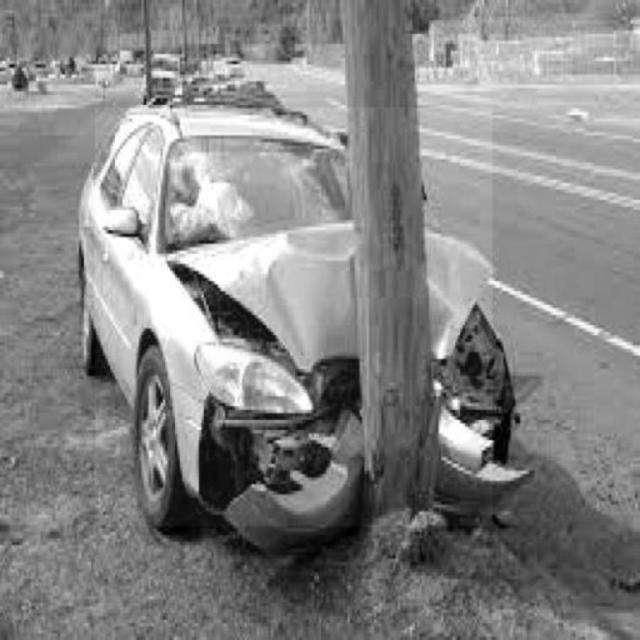accident: (95, 108, 492, 526)
